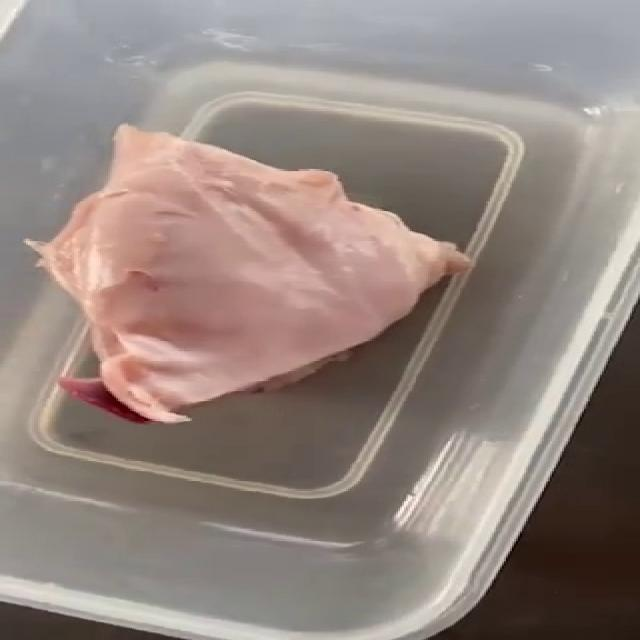chicken: (31, 123, 479, 420)
